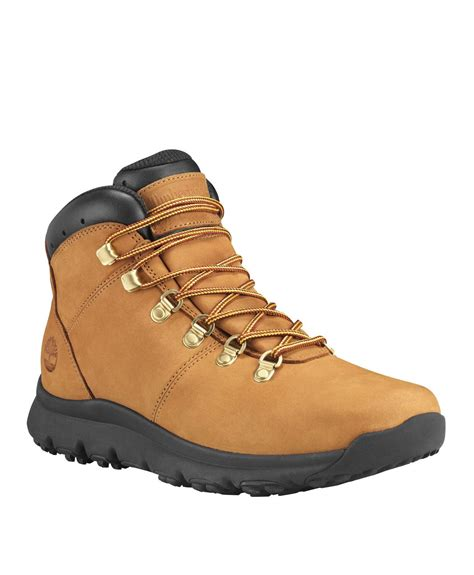cuero: (27, 150, 447, 497)
